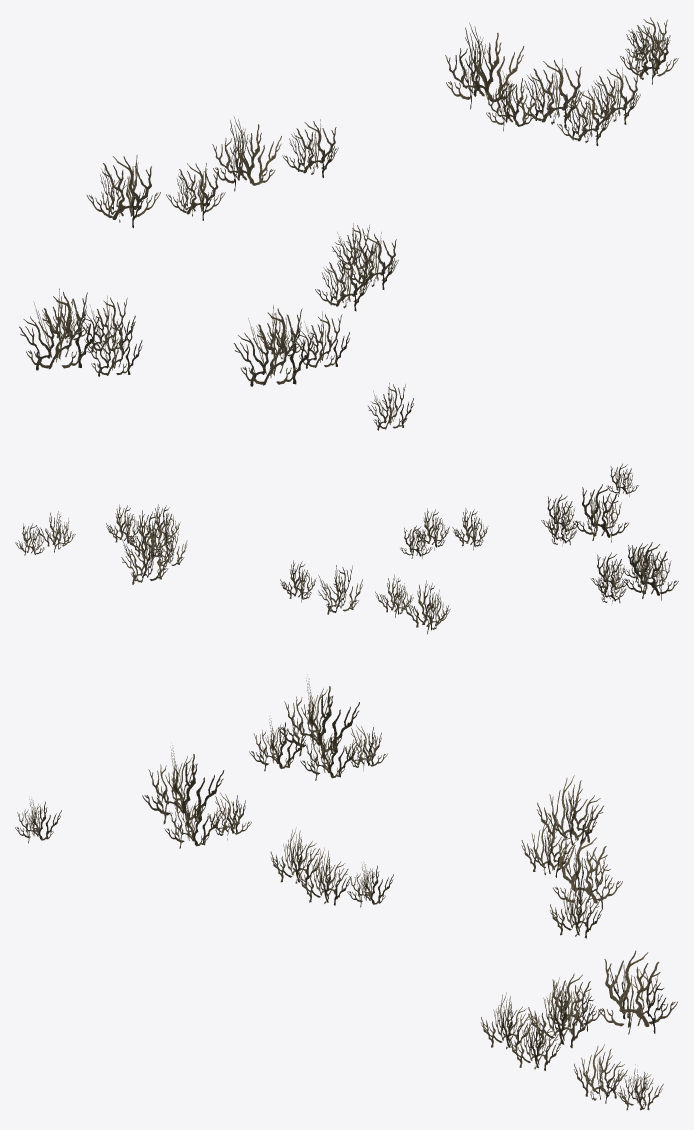
File: caodi_03.fbx
3 views of the same model, one above another, from view 1: azimuth 30°, elevation 25°; view 2: azimuth 150°, elevation 25°; view 3: azimuth 270°, elevation 25° (orthographic). The views are drawn at different scales.
Visible parts, largest first — view 1: caodi_03; view 2: caodi_03; view 3: caodi_03.
Part boxes in pixels (left/top/right/bottom): caodi_03: left=19, top=17, right=678, bottom=430; caodi_03: left=15, top=463, right=678, bottom=634; caodi_03: left=15, top=674, right=677, bottom=1110.
Size of the model in its own units: 4255 by 400 by 3108.
1 material, 1 textured.
